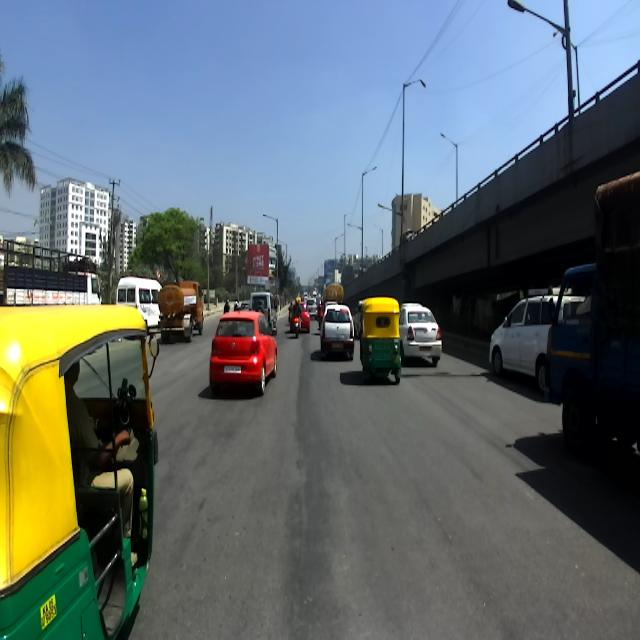auto ahead at: (0, 269, 159, 640), (354, 292, 406, 400)
car ahead at: (212, 308, 284, 414), (312, 299, 356, 371)
